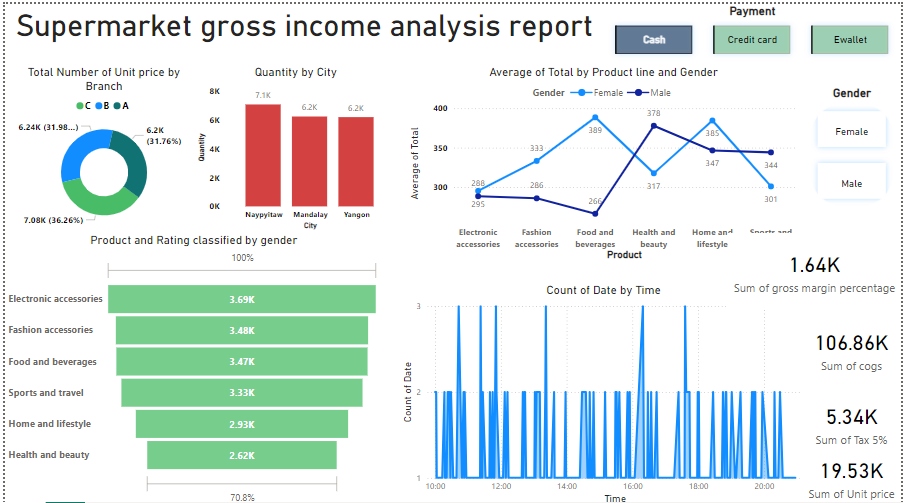

The page's visual inventory and layout, read from the dashboard file:
{"tool":"powerbi","page":{"name":"Page 1","canvas":[1280,720],"ordinal":0},"visuals":[{"type":"funnel","title":"Product and Rating classified by gender","fields":{"Category":["supermarket_sales (2).Product line"],"Y":["Sum(supermarket_sales (2).Unit price)"]},"box":[0,327.3,539.6,392.7],"z":0},{"type":"donutChart","title":"Total Number of Unit price by Branch","fields":{"Y":["Sum(supermarket_sales (2).Unit price)"],"Category":["supermarket_sales (2).Branch"]},"box":[0,87.1,282.9,240],"z":1000},{"type":"clusteredColumnChart","title":"Quantity by City","fields":{"Category":["supermarket_sales (2).City"],"Y":["Sum(supermarket_sales (2).Unit price)"]},"box":[270.5,87.3,290.9,240],"z":2000},{"type":"lineChart","fields":{"Category":["supermarket_sales (2).Product line"],"Y":["Avg(supermarket_sales (2).Total)"],"Series":["supermarket_sales (2).Gender"]},"box":[571.6,87.3,567.3,283.6],"z":2001},{"type":"advancedSlicerVisual","fields":{"Values":["supermarket_sales (2).Gender"]},"box":[1144.3,117.1,131.4,178.6],"z":2002},{"type":"areaChart","fields":{"Category":["supermarket_sales (2).Time"],"Y":["CountNonNull(supermarket_sales (2).Date)"]},"box":[561.5,398.5,587.6,321.5],"z":2003},{"type":"advancedSlicerVisual","title":"Payment","fields":{"Values":["supermarket_sales (2).Payment"]},"box":[855.7,0,424.3,87.1],"z":2004},{"type":"textbox","box":[0,0,855.7,75.7],"z":2006},{"type":"card","fields":{"Values":["Sum(supermarket_sales (2).Tax 5%)"]},"box":[1138.6,545.7,141.4,102.9],"z":2007},{"type":"card","fields":{"Values":["Sum(supermarket_sales (2).cogs)"]},"box":[1138.6,438.6,141.4,107.1],"z":2008},{"type":"card","fields":{"Values":["Sum(supermarket_sales (2).gross margin percentage)"]},"box":[1032.9,360,247.1,107.1],"z":2009},{"type":"card","fields":{"Values":["Sum(supermarket_sales (2).Unit price)"]},"box":[1138.6,630,141.4,90],"z":2010}]}

Visuals, with their boxes in screenshot pixels (x1, y1, x2, y2), scaled from the page's 1280x720 canvas onto the 903x503 screenshot:
"Product and Rating classified by gender" funnel: box=[0, 229, 381, 502]
"Total Number of Unit price by Branch" donutChart: box=[0, 61, 200, 229]
"Quantity by City" clusteredColumnChart: box=[191, 61, 396, 229]
lineChart - supermarket_sales (2).Product line x Avg(supermarket_sales (2).Total): box=[403, 61, 803, 259]
advancedSlicerVisual - supermarket_sales (2).Gender: box=[807, 82, 900, 207]
areaChart - supermarket_sales (2).Time x CountNonNull(supermarket_sales (2).Date): box=[396, 278, 811, 502]
"Payment" advancedSlicerVisual: box=[604, 0, 902, 61]
textbox: box=[0, 0, 604, 53]
card - Sum(supermarket_sales (2).Tax 5%): box=[803, 381, 902, 453]
card - Sum(supermarket_sales (2).cogs): box=[803, 306, 902, 381]
card - Sum(supermarket_sales (2).gross margin percentage): box=[729, 252, 902, 326]
card - Sum(supermarket_sales (2).Unit price): box=[803, 440, 902, 502]
